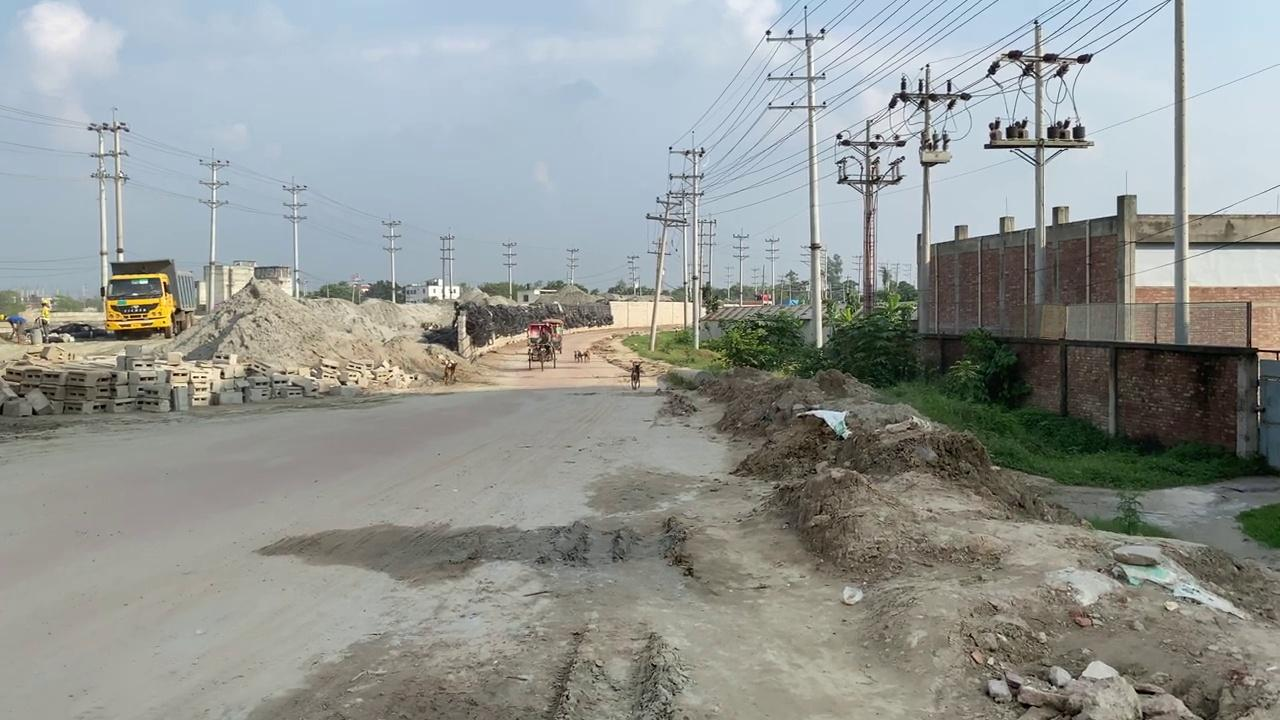Dog: (442, 359, 457, 385), (629, 368, 639, 389), (573, 349, 582, 362)
Garbage: (0, 342, 422, 416)
Muddy road: (692, 325, 1276, 720)
Pole: (1171, 0, 1189, 343), (87, 123, 109, 299), (281, 178, 307, 298)
Rickshaw: (470, 325, 669, 388)
Tree: (101, 258, 196, 340), (6, 296, 52, 344), (525, 318, 563, 370)
